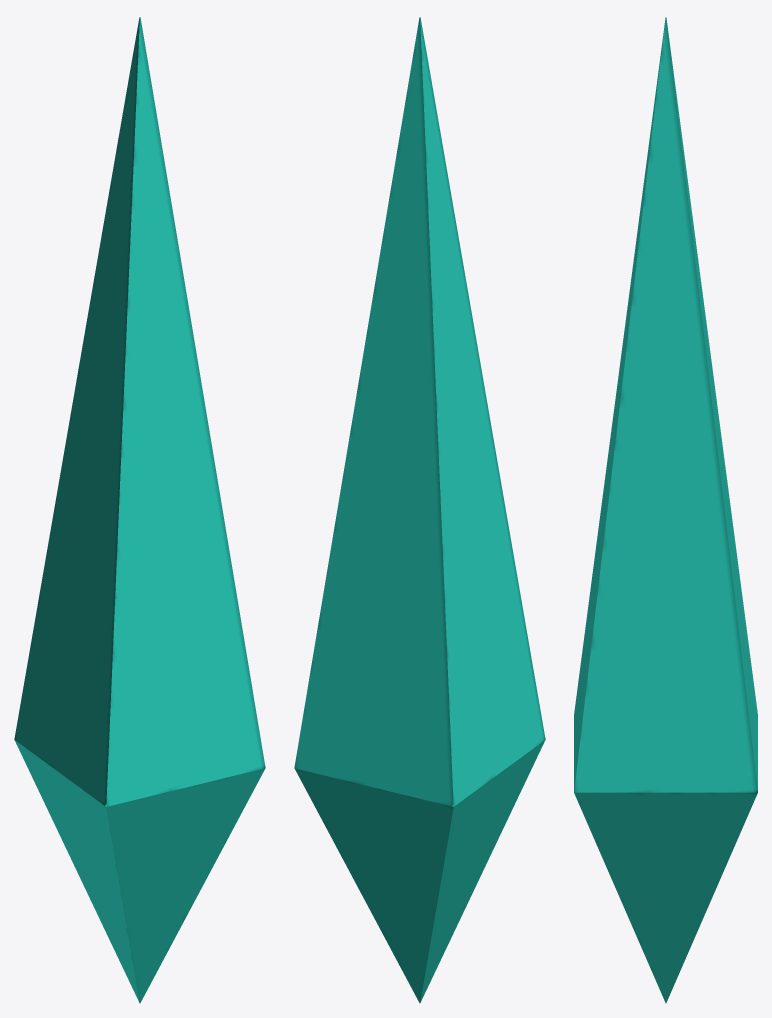
The model's file is Vistrel_Nash (2).fbx.
The picture shows the model from 3 angles, left to right: view 1: azimuth 30°, elevation 25°; view 2: azimuth 150°, elevation 25°; view 3: azimuth 270°, elevation 25°; orthographic projection.
Visible parts, largest first — view 1: pyramid; view 2: pyramid; view 3: pyramid.
Boxes of the visible parts, box(x1,y1,x2,y2) form: pyramid: box(14, 17, 265, 1003); pyramid: box(294, 17, 545, 1003); pyramid: box(574, 17, 757, 1003).
Size of the model in its own units: 100 by 594 by 100.
1 material, 1 textured.
